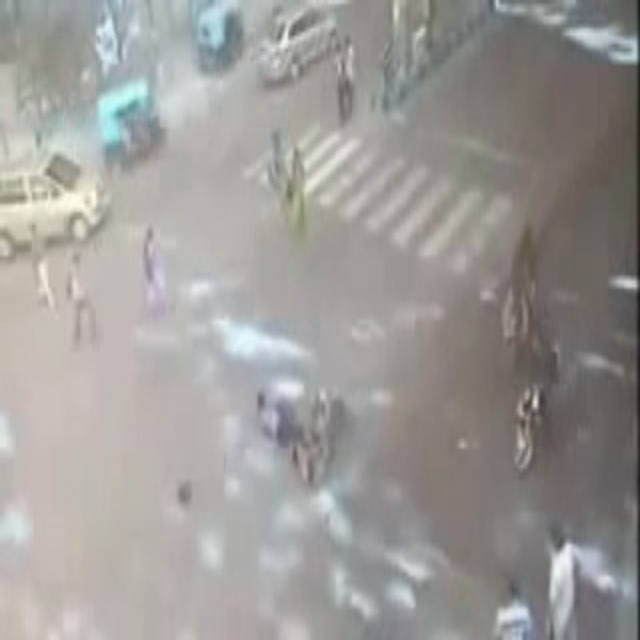acc: (250, 367, 346, 487)
